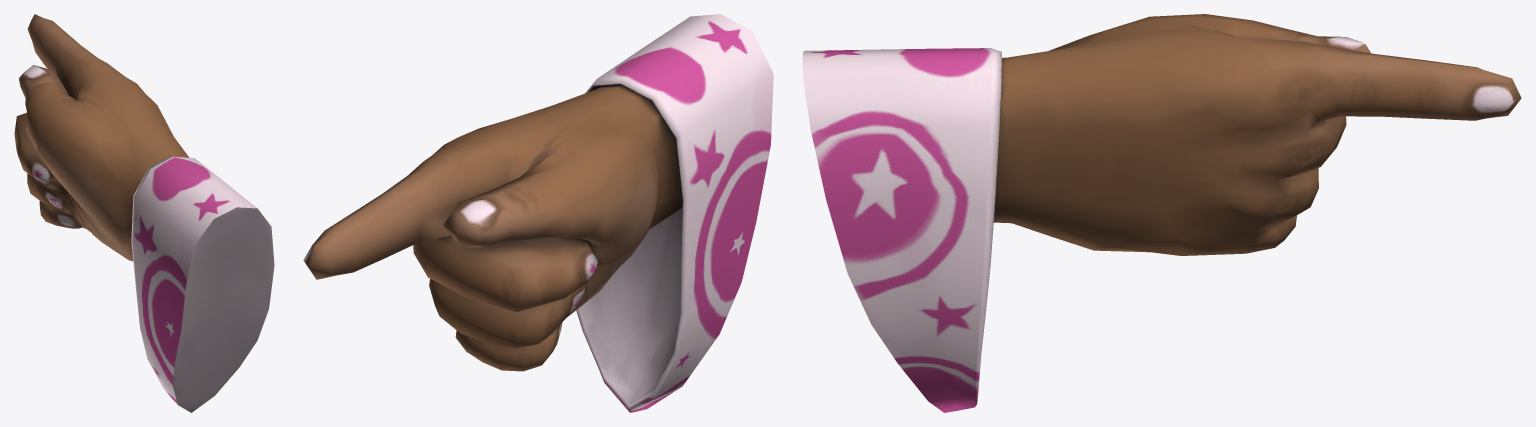
Rendered from avatar2-hand-right.glb.
3 renders of one model, left to right at view 1: azimuth 30°, elevation 25°; view 2: azimuth 150°, elevation 25°; view 3: azimuth 270°, elevation 25°, orthographic. The views are drawn at different scales.
Visible parts, largest first — view 1: hand-right; view 2: hand-right; view 3: hand-right.
Boxes of the visible parts, bbox=[...] form: hand-right: bbox=[14, 14, 274, 412]; hand-right: bbox=[303, 14, 773, 412]; hand-right: bbox=[802, 14, 1521, 412].
Size of the model in its own units: 0.0982 by 0.2209 by 0.3782.
1 material, 1 textured.
